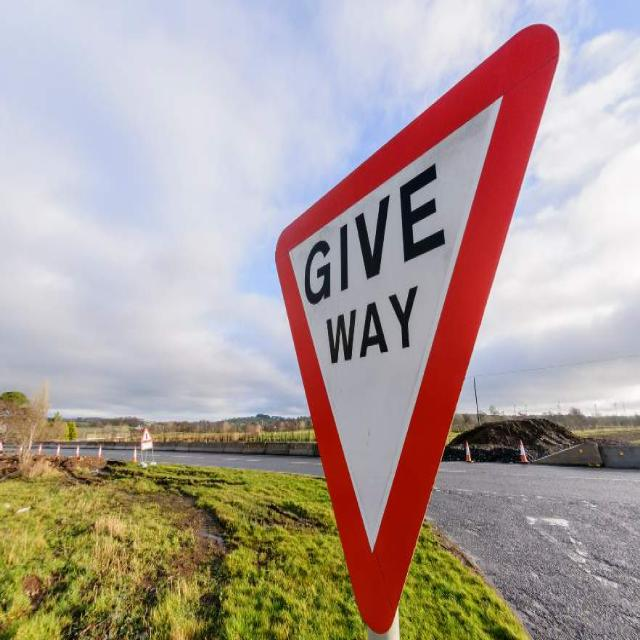giveway: (267, 23, 564, 628)
